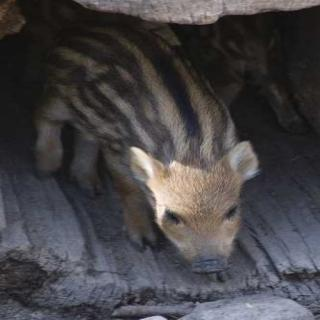Pig: (44, 22, 256, 283), (214, 8, 269, 80)
